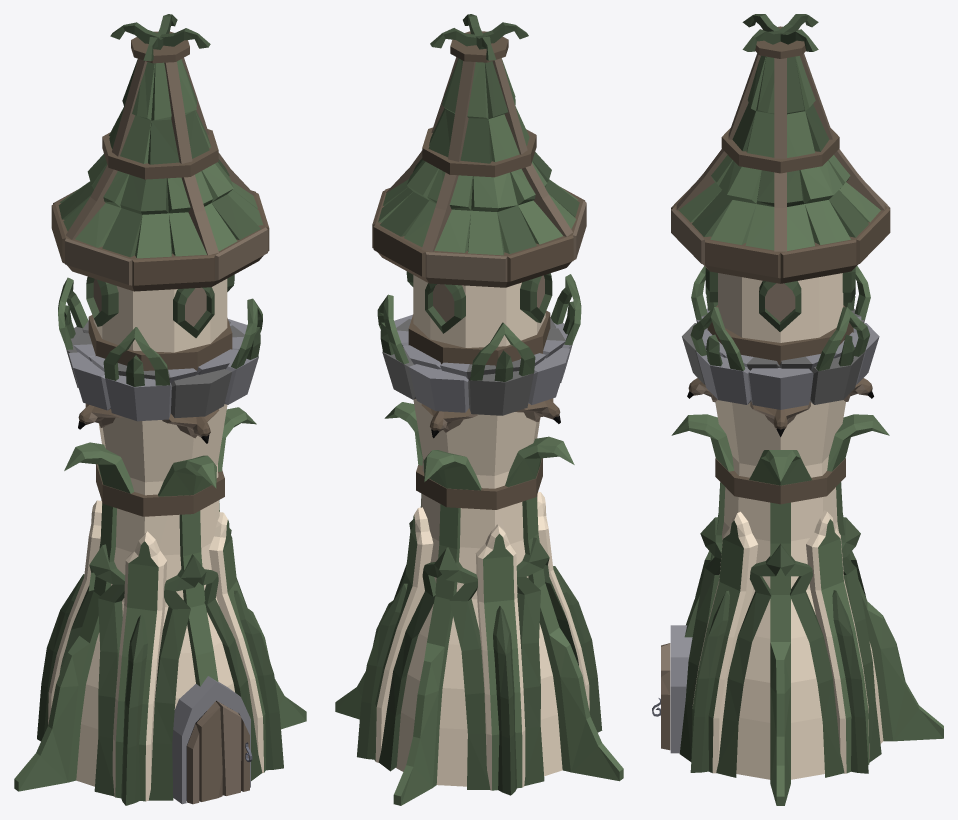
The model's file is _archer_tower_LVL_4.fbx.
The picture shows the model from 3 angles, left to right: view 1: azimuth 30°, elevation 25°; view 2: azimuth 150°, elevation 25°; view 3: azimuth 270°, elevation 25°; orthographic projection.
Visible parts, largest first — view 1: archer_tower_LVL_4; view 2: archer_tower_LVL_4; view 3: archer_tower_LVL_4.
Part boxes in pixels (left/top/right/bottom): archer_tower_LVL_4: left=14, top=14, right=306, bottom=805; archer_tower_LVL_4: left=335, top=14, right=623, bottom=805; archer_tower_LVL_4: left=652, top=14, right=943, bottom=805.
Size of the model in its own units: 639 by 1542 by 571.
